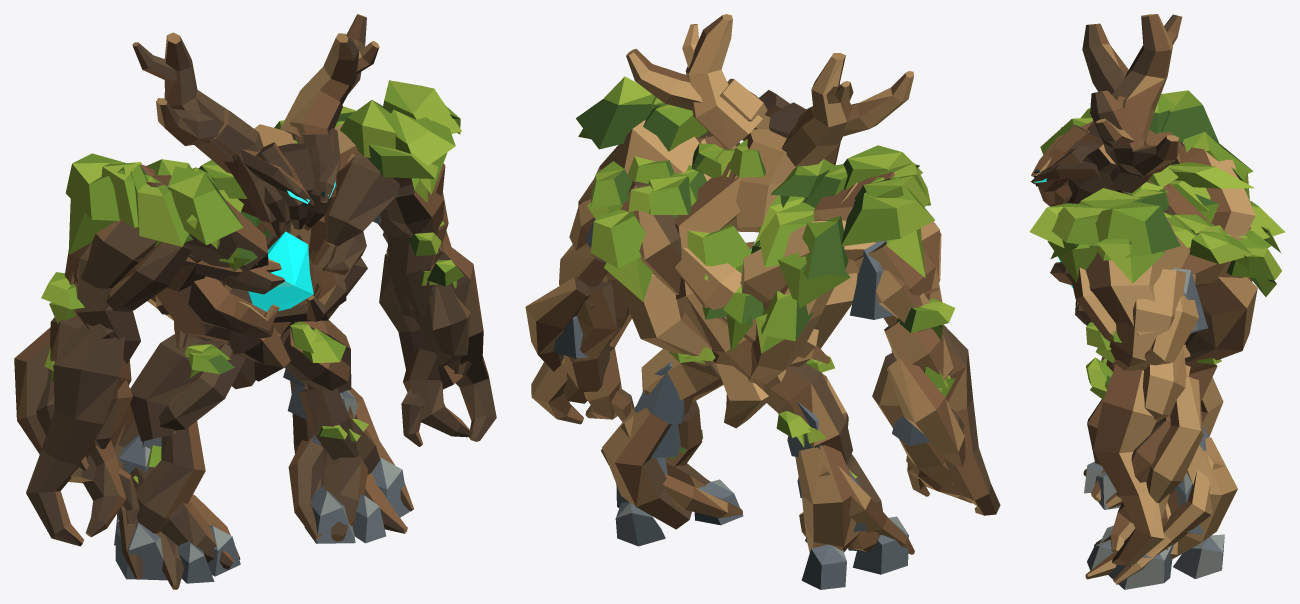
File: tide-root-colossus-complete-pass2.glb
The picture shows the model from 3 angles, left to right: view 1: azimuth 30°, elevation 25°; view 2: azimuth 150°, elevation 25°; view 3: azimuth 270°, elevation 25°; orthographic projection. The views are drawn at different scales.
Visible parts, largest first — view 1: Forearm main to outer claw -1, Forearm main to outer claw 1, Calf crossing root -1, Thigh load root -1, Right clavicle cascade, Outer shoulder growth -1 angled growth 3, Outer shoulder root -1, Arm descending trunk 1, Calf crossing root 1, Crown left main, Upper arm crossing bark -1, Forearm root split -1 (+69 smaller); view 2: Rear diagonal trunk, Calf rear load 1, Calf rear load -1, Crown right main, Forearm main to outer claw -1, Forearm root split -1, Forearm inner braid 1, Crown left main, Flank bowed trunk 1, Thigh load root -1, Outer shoulder growth -1 angled growth 0, Neck rear root (+59 smaller); view 3: Forearm main to outer claw 1, Flank bowed trunk 1, Crown left main, Forearm root split 1, Arm descending trunk 1, Outer shoulder root 1, Outer shoulder growth 1 angled growth 3, Calf rear load 1, Lower leg lateral root 1, Left scapular arch, Crown right main, Elbow outer hook 1 (+45 smaller).
Part boxes in pixels (x1,y1,x2,y2): Forearm main to outer claw -1: (26,325,131,546); Forearm main to outer claw 1: (405,241,496,441); Calf crossing root -1: (135,421,205,533); Thigh load root -1: (130,334,229,441); Right clavicle cascade: (324,153,400,246); Outer shoulder growth -1 angled growth 3: (167,166,242,245); Outer shoulder root -1: (73,175,171,288); Arm descending trunk 1: (378,193,448,319); Calf crossing root 1: (299,388,379,474); Crown left main: (164,32,233,173); Upper arm crossing bark -1: (106,241,192,311); Forearm root split -1: (14,327,50,454); Rear diagonal trunk: (674,161,785,390); Calf rear load 1: (602,406,691,529); Calf rear load -1: (795,445,861,552); Crown right main: (685,14,762,149); Forearm main to outer claw -1: (942,324,1000,515); Forearm root split -1: (887,355,965,467); Forearm inner braid 1: (563,281,618,403); Crown left main: (781,53,851,166); Flank bowed trunk 1: (616,274,713,366); Thigh load root -1: (758,362,852,465); Outer shoulder growth -1 angled growth 0: (840,177,935,246); Neck rear root: (733,129,795,227); Forearm main to outer claw 1: (1093,364,1164,565); Flank bowed trunk 1: (1185,277,1257,369); Crown left main: (1103,14,1172,144); Forearm root split 1: (1146,377,1203,502); Arm descending trunk 1: (1106,269,1195,371); Outer shoulder root 1: (1085,217,1189,335); Outer shoulder growth 1 angled growth 3: (1094,201,1180,260); Calf rear load 1: (1172,437,1237,559); Lower leg lateral root 1: (1113,454,1224,584); Left scapular arch: (1179,146,1255,236); Crown right main: (1090,90,1152,193); Elbow outer hook 1: (1143,349,1186,422).
Size of the model in its own units: 5.44 by 5.79 by 2.82.
